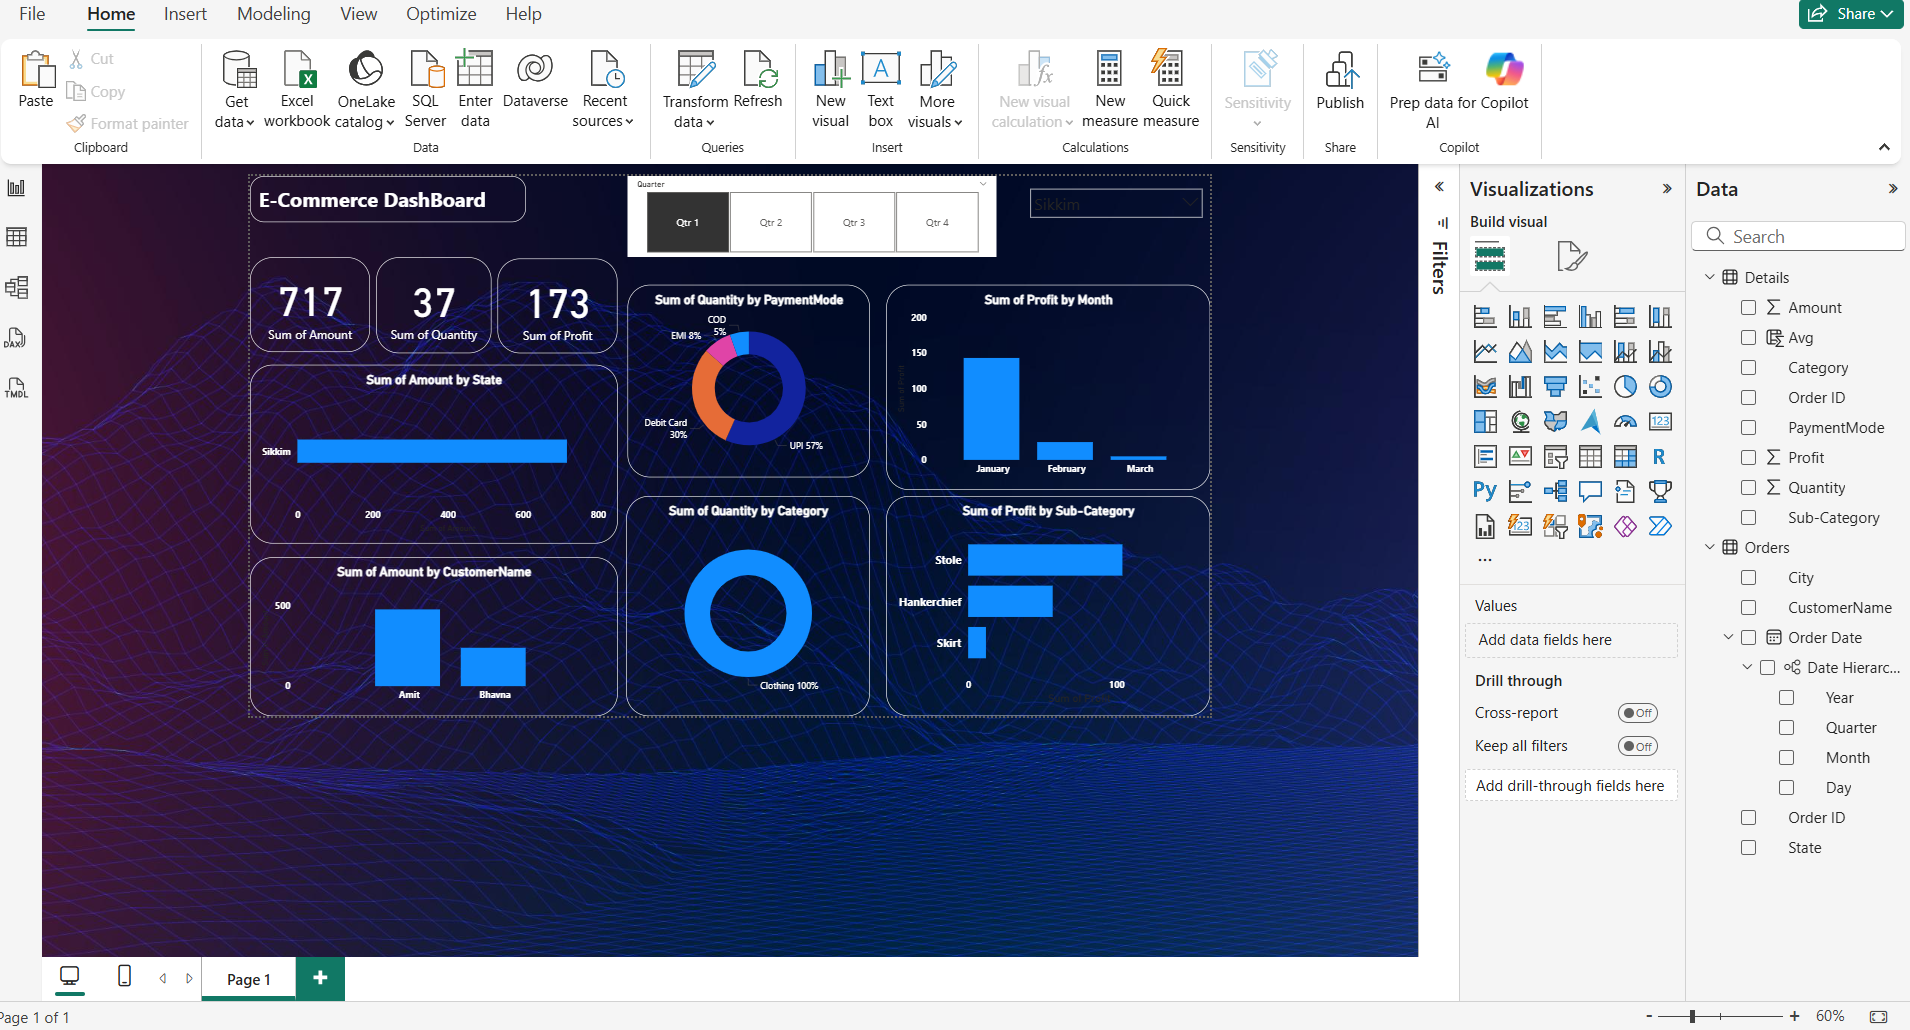

This screenshot's page, from the dashboard's own definition file:
{"tool":"powerbi","page":{"name":"Page 1","canvas":[1280,720],"ordinal":0},"visuals":[{"type":"textbox","box":[0,0,368.3,61.7],"z":0},{"type":"columnChart","fields":{"Category":["Orders.Order Date.Variation.Date Hierarchy.Month"],"Y":["Details.Profit"]},"box":[848.3,145,431.7,273.3],"z":1000},{"type":"barChart","fields":{"Category":["Details.Sub-Category"],"Y":["Details.Profit"]},"box":[848.3,426.7,431.7,293.3],"z":2000},{"type":"donutChart","fields":{"Category":["Details.Category"],"Y":["Details.Quantity"]},"box":[501.7,426.7,325,293.3],"z":3000},{"type":"donutChart","fields":{"Y":["Details.Quantity"],"Category":["Details.PaymentMode"]},"box":[503.3,145,323.3,256.7],"z":4000},{"type":"card","fields":{"Values":["Details.Amount"]},"box":[0,108.3,160,126.7],"z":5000},{"type":"card","fields":{"Values":["Details.Quantity"]},"box":[168.3,108.3,153.3,128.3],"z":6000},{"type":"card","fields":{"Values":["Details.Profit"]},"box":[330,110,160,126.7],"z":7000},{"type":"barChart","fields":{"Category":["Orders.State"],"Y":["Details.Amount"]},"box":[0,251.7,490,238.3],"z":9000},{"type":"clusteredColumnChart","fields":{"Category":["Orders.CustomerName"],"Y":["Details.Amount"]},"box":[0,508.3,490,211.7],"z":10000},{"type":"slicer","fields":{"Values":["Orders.Order Date.Variation.Date Hierarchy.Quarter"]},"box":[503.3,0,491.7,108.3],"z":11000},{"type":"slicer","fields":{"Values":["Orders.State"]},"box":[1030,6.7,250,55],"z":12000}]}

Visuals, with their boxes on the page's 1280x720 design canvas (x1, y1, x2, y2). These are canvas units, not pixel positions in the 1910x1030 screenshot, which may show the page scaled, cropped or inside an application window:
textbox: 0:0:368:62
columnChart - Orders.Order Date.Variation.Date Hierarchy.Month x Details.Profit: 848:145:1280:418
barChart - Details.Sub-Category x Details.Profit: 848:427:1280:720
donutChart - Details.Category x Details.Quantity: 502:427:827:720
donutChart - Details.Quantity x Details.PaymentMode: 503:145:827:402
card - Details.Amount: 0:108:160:235
card - Details.Quantity: 168:108:322:237
card - Details.Profit: 330:110:490:237
barChart - Orders.State x Details.Amount: 0:252:490:490
clusteredColumnChart - Orders.CustomerName x Details.Amount: 0:508:490:720
slicer - Orders.Order Date.Variation.Date Hierarchy.Quarter: 503:0:995:108
slicer - Orders.State: 1030:7:1280:62
